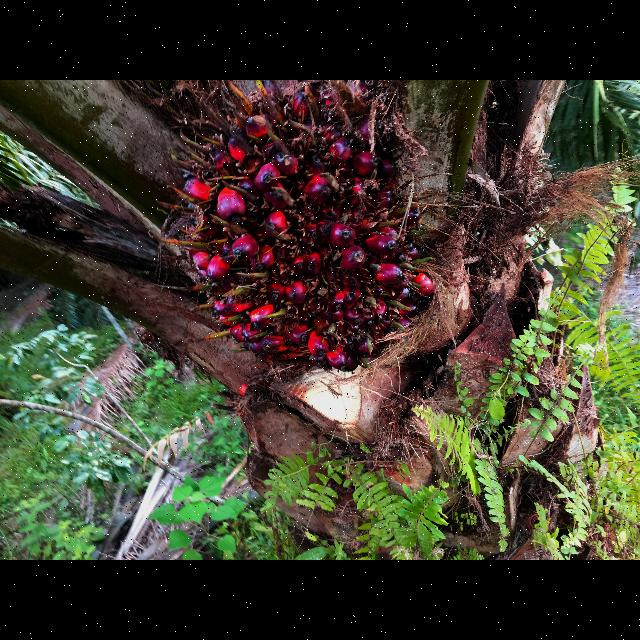Ripe: (157, 80, 437, 374)
